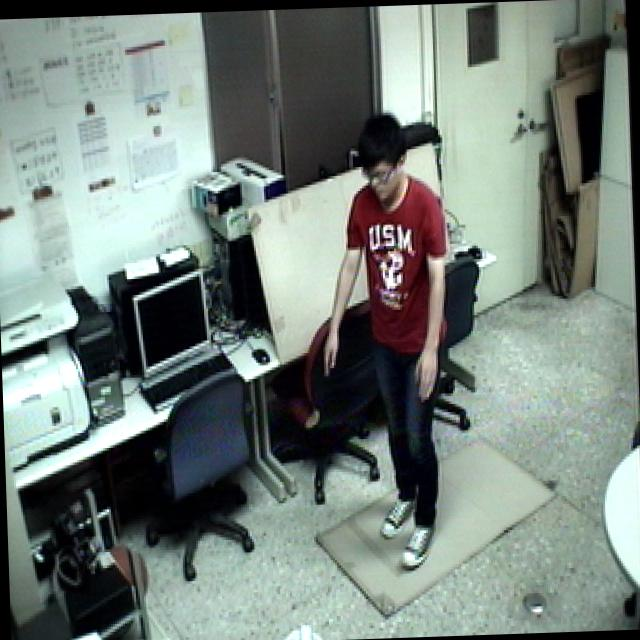stand: (302, 99, 472, 582)
